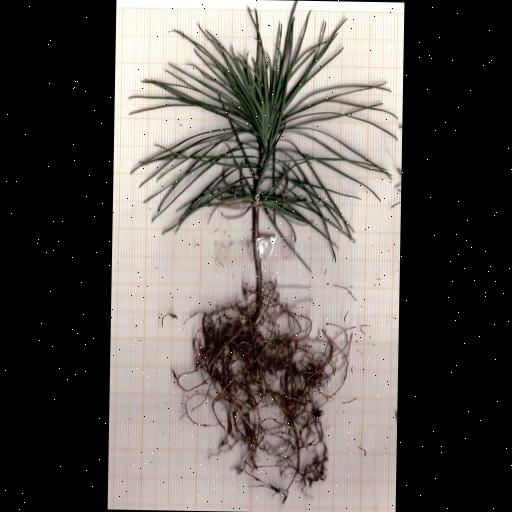flowerCedr: (131, 1, 395, 259)
rootCedr: (173, 282, 353, 502)
stemCedr: (251, 207, 263, 301)
